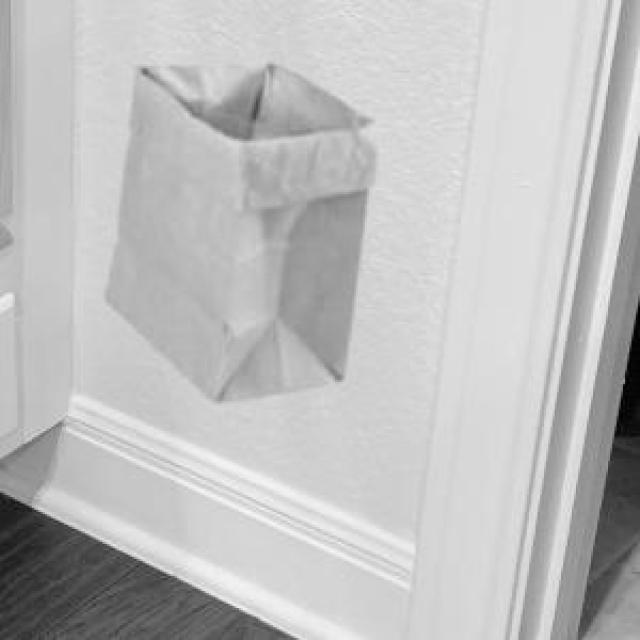paper: (102, 60, 373, 399)
